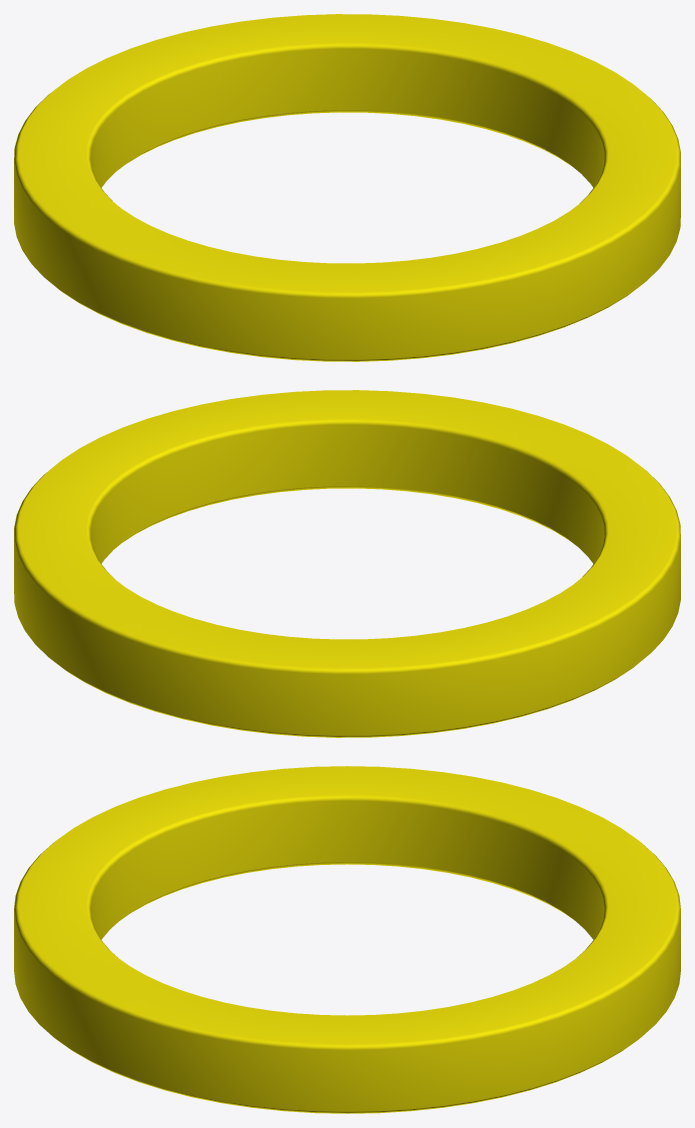
3 renders of one model, top to bottom at view 1: azimuth 30°, elevation 25°; view 2: azimuth 150°, elevation 25°; view 3: azimuth 270°, elevation 25°, orthographic.
Visible parts, largest first — view 1: seal_body; view 2: seal_body; view 3: seal_body.
Boxes of the visible parts, x1,y1,x2,y2 form: seal_body: [14, 14, 680, 361]; seal_body: [14, 390, 680, 737]; seal_body: [14, 766, 680, 1113].
Size of the model in its own units: 0.0413 by 0.00476 by 0.0413.
